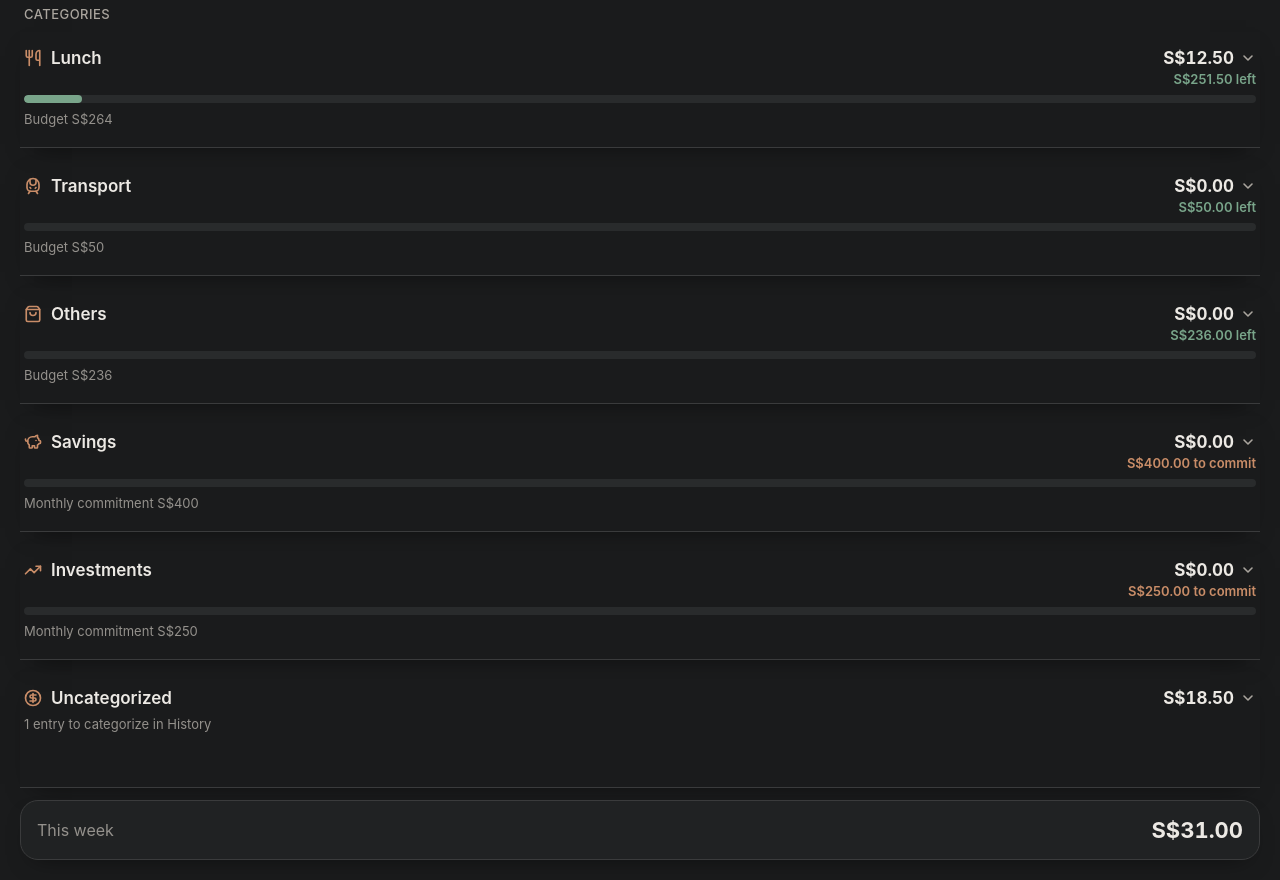
Test case: Dashboard category expense history › lists entries with no category in an Uncategorized section
(page scrolled)
Click the button "Uncategorized S$18.50 1 entry to categorize in History".
click(111, 698)  # box [20,672,1260,786]
(page scrolled)
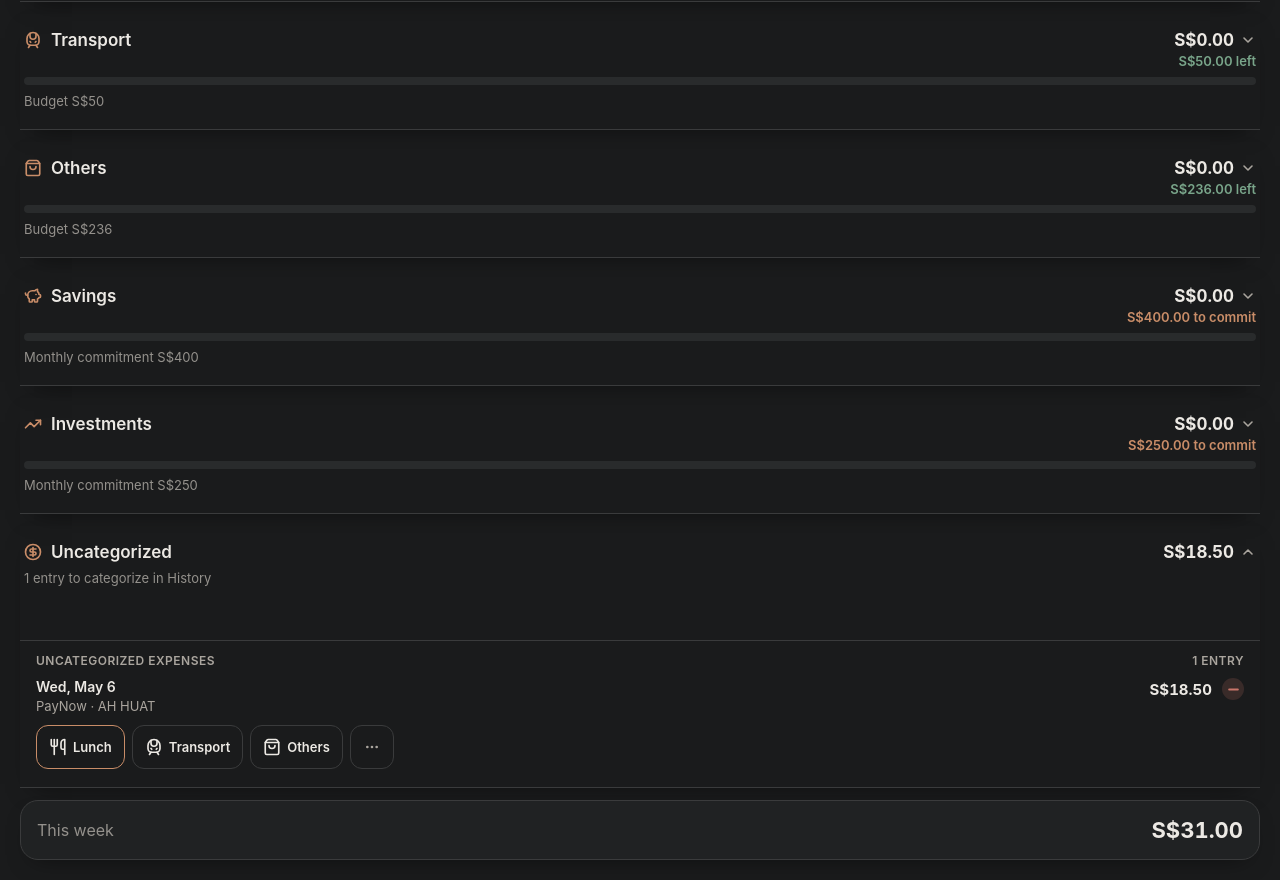
expect the element with id "category-expenses-uncategorized" shows "PayNow · AH HUAT": met, box [36,698,156,714]
expect the element with id "category-expenses-uncategorized" shows "S$18.50": met, box [1150,680,1212,699]
